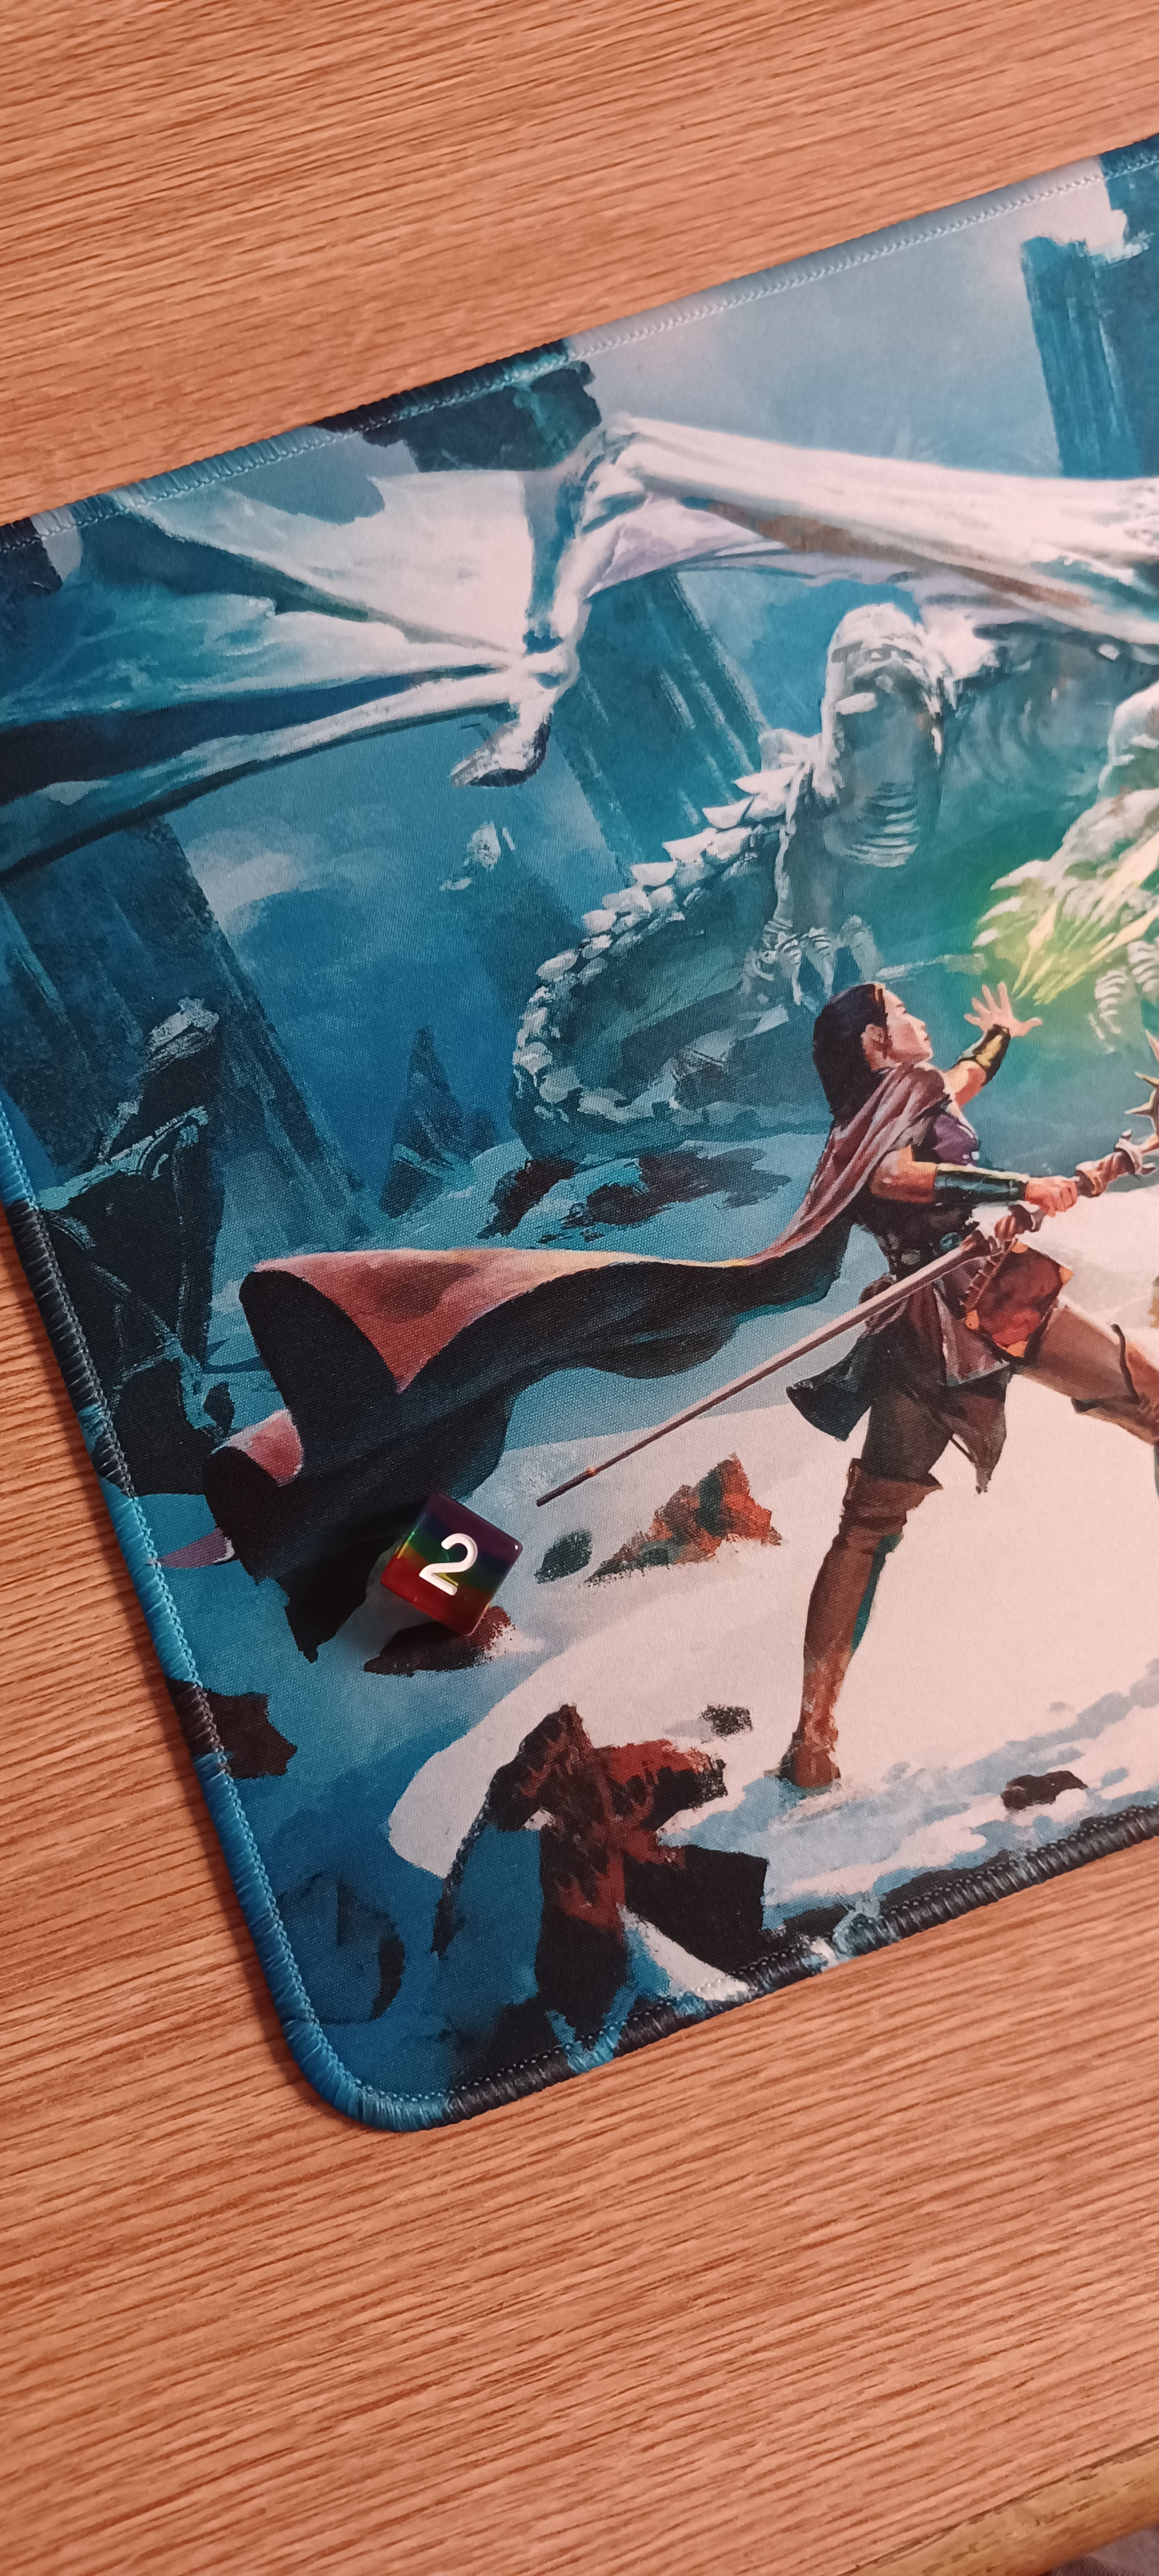two: (332, 1470, 553, 1671)
